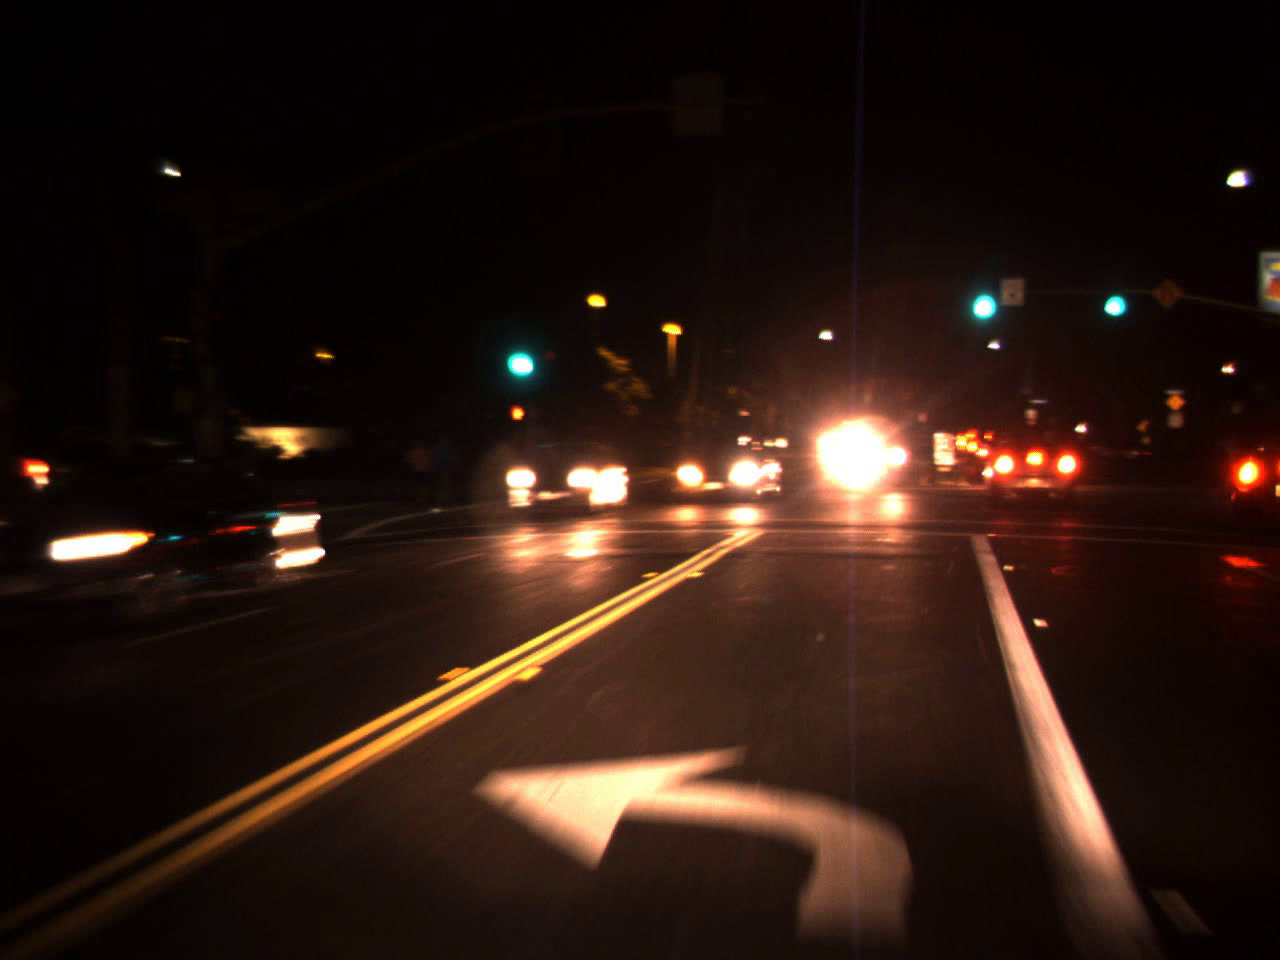go: (495, 321, 540, 387), (962, 263, 1001, 329), (1099, 273, 1129, 321)
